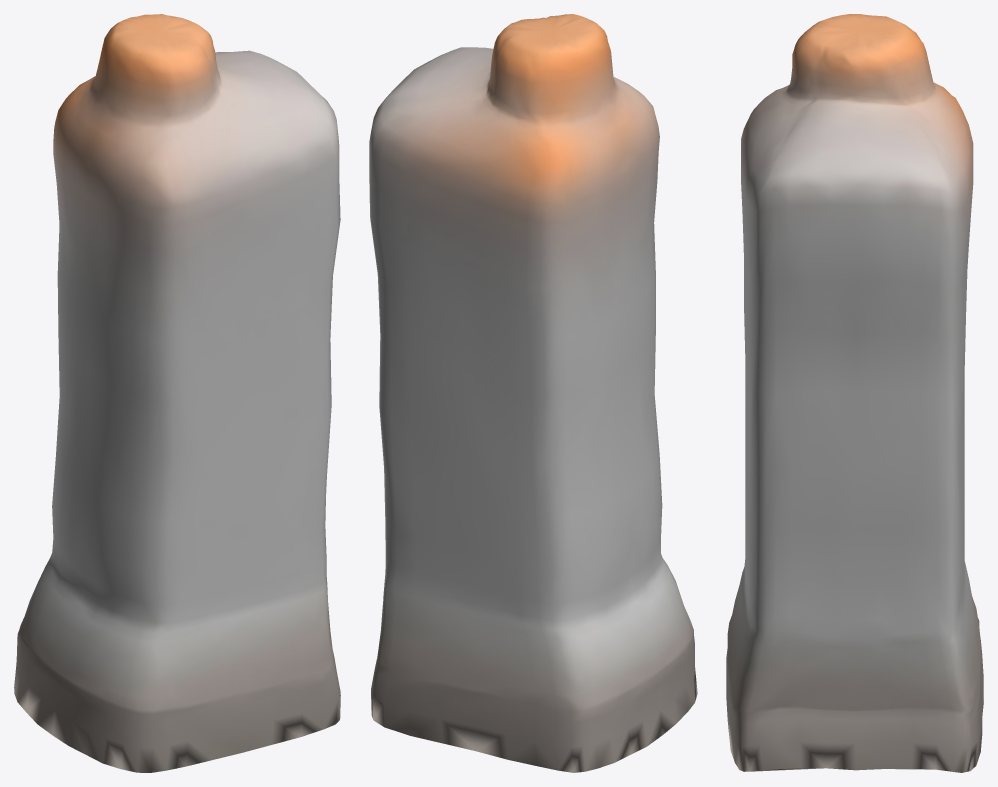
Rendered from camp-fence.glb.
3 views of the same model, side by side, from view 1: azimuth 30°, elevation 25°; view 2: azimuth 150°, elevation 25°; view 3: azimuth 270°, elevation 25° (orthographic).
Parts seen in each view (by area): view 1: tripo_node_dd2e0b5a-fe78-4c8c-887d-0aee216d0d37; view 2: tripo_node_dd2e0b5a-fe78-4c8c-887d-0aee216d0d37; view 3: tripo_node_dd2e0b5a-fe78-4c8c-887d-0aee216d0d37.
Part boxes in pixels (left/top/right/bottom): tripo_node_dd2e0b5a-fe78-4c8c-887d-0aee216d0d37: left=14, top=14, right=340, bottom=772; tripo_node_dd2e0b5a-fe78-4c8c-887d-0aee216d0d37: left=369, top=14, right=697, bottom=772; tripo_node_dd2e0b5a-fe78-4c8c-887d-0aee216d0d37: left=726, top=14, right=983, bottom=772.
Size of the model in its own units: 0.3926 by 0.998 by 0.3418.
1 material, 1 textured.
